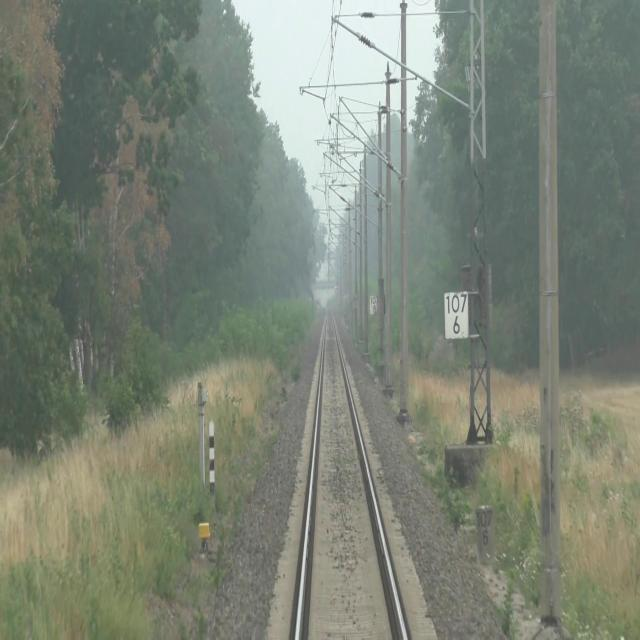rail-track: (300, 316, 403, 639)
